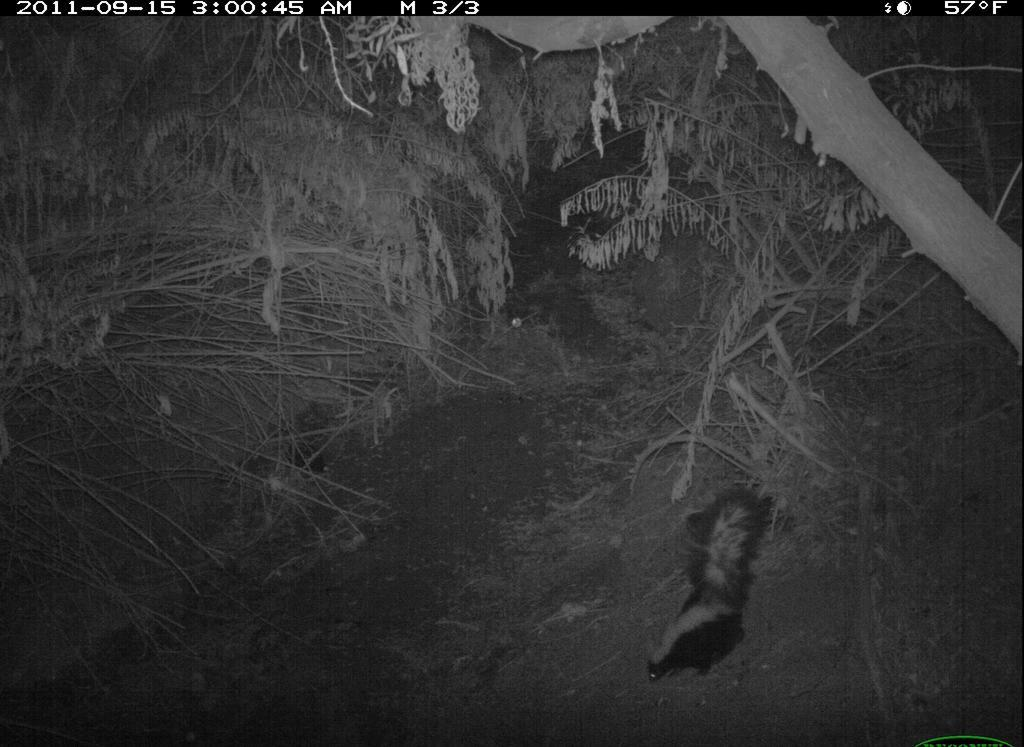skunk: (641, 485, 778, 684)
